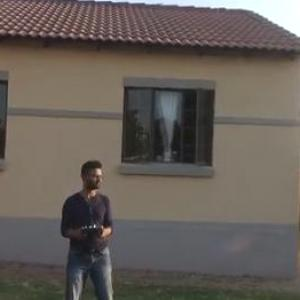follow: (56, 153, 120, 299)
